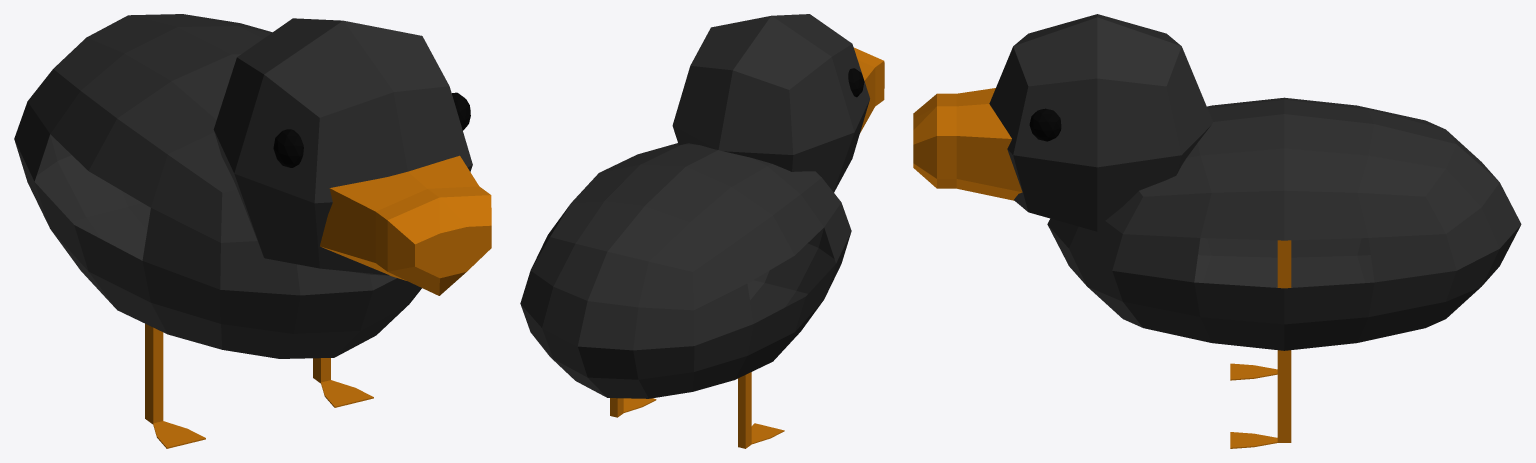
File: FagelDel1.fbx
3 views of the same model, side by side, from view 1: azimuth 30°, elevation 25°; view 2: azimuth 150°, elevation 25°; view 3: azimuth 270°, elevation 25° (orthographic). The views are drawn at different scales.
Visible parts, largest first — view 1: Cube.001; view 2: Cube.001; view 3: Cube.001.
Part boxes in pixels (x1,y1,x2,y2): Cube.001: (14,14,491,448); Cube.001: (520,14,884,448); Cube.001: (913,14,1521,448).
Size of the model in its own units: 336 by 473 by 674.
